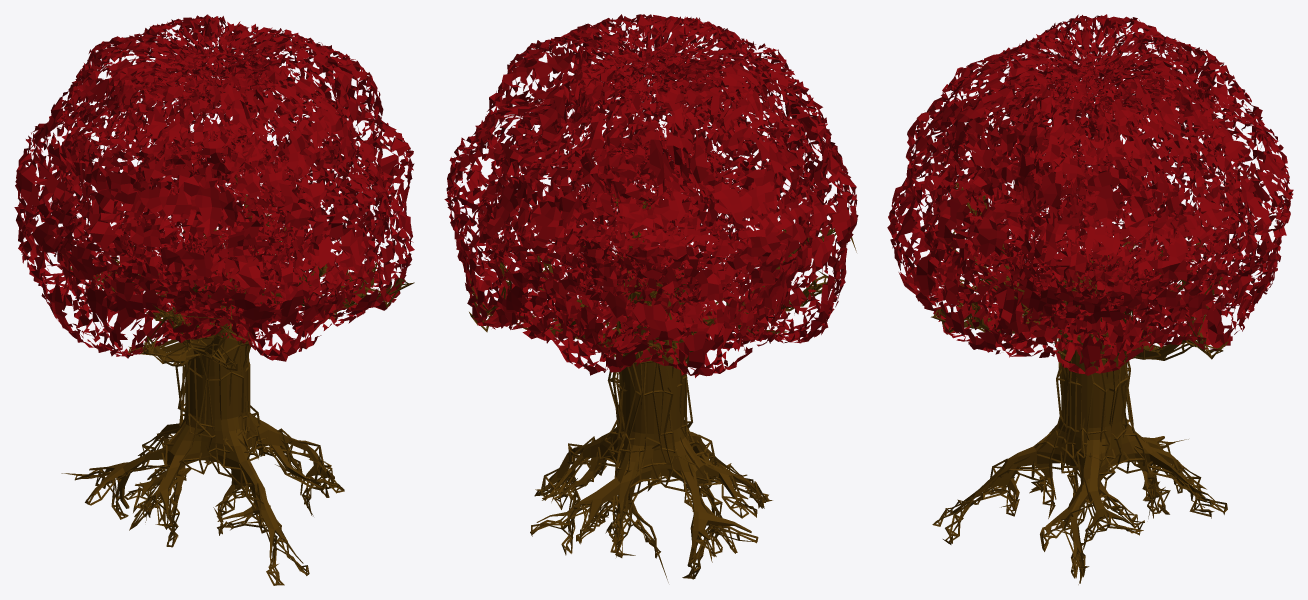
The model's file is tree with vines with leaves.fbx.
3 views of the same model, side by side, from view 1: azimuth 30°, elevation 25°; view 2: azimuth 150°, elevation 25°; view 3: azimuth 270°, elevation 25° (orthographic). The views are drawn at different scales.
Parts seen in each view (by area): view 1: Cylinder.067; view 2: Cylinder.067; view 3: Cylinder.067.
Boxes of the visible parts, x1,y1,x2,y2 form: Cylinder.067: (14,14,414,585); Cylinder.067: (444,14,858,582); Cylinder.067: (887,14,1293,584).
Size of the model in its own units: 1734 by 2294 by 1732.
